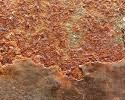Corrosion: (1, 1, 125, 82)
